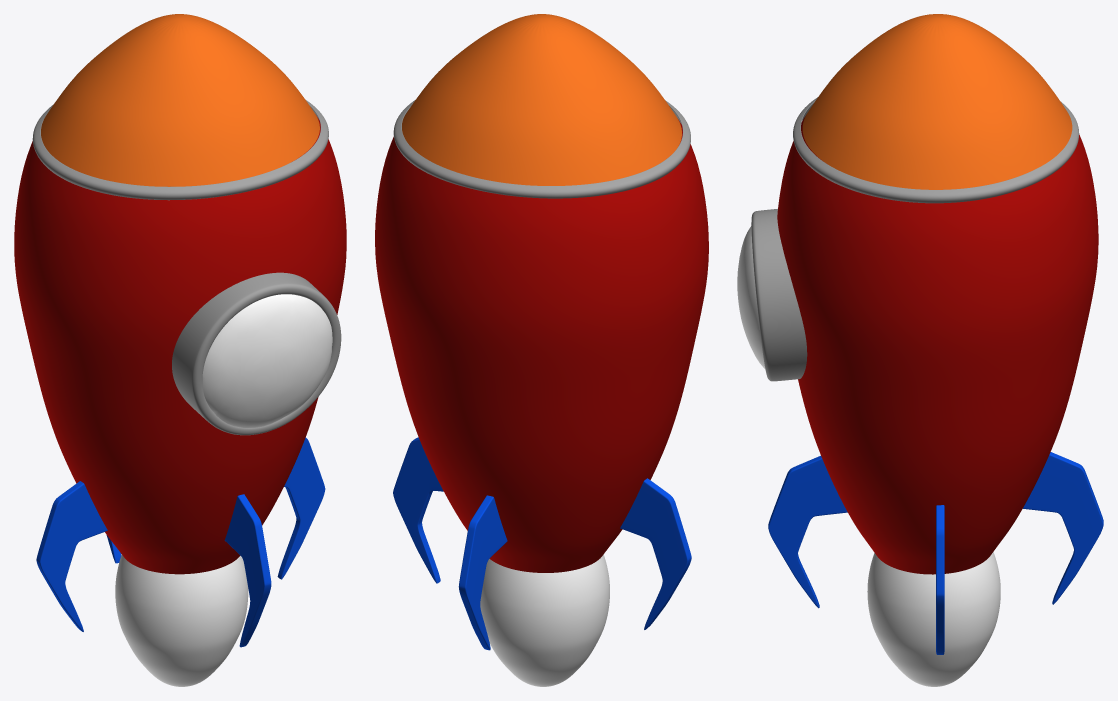
The model's file is rocket.gltf.
3 views of the same model, side by side, from view 1: azimuth 30°, elevation 25°; view 2: azimuth 150°, elevation 25°; view 3: azimuth 270°, elevation 25° (orthographic).
Parts seen in each view (by area): view 1: Sphere.005; view 2: Sphere.005; view 3: Sphere.005.
Part boxes in pixels (box(x1,y1,x2,y2)): Sphere.005: box(14, 14, 346, 686); Sphere.005: box(375, 14, 708, 686); Sphere.005: box(737, 14, 1103, 686).
Bounding box in the file's own units: 2.36 × 5.14 × 2.56.
